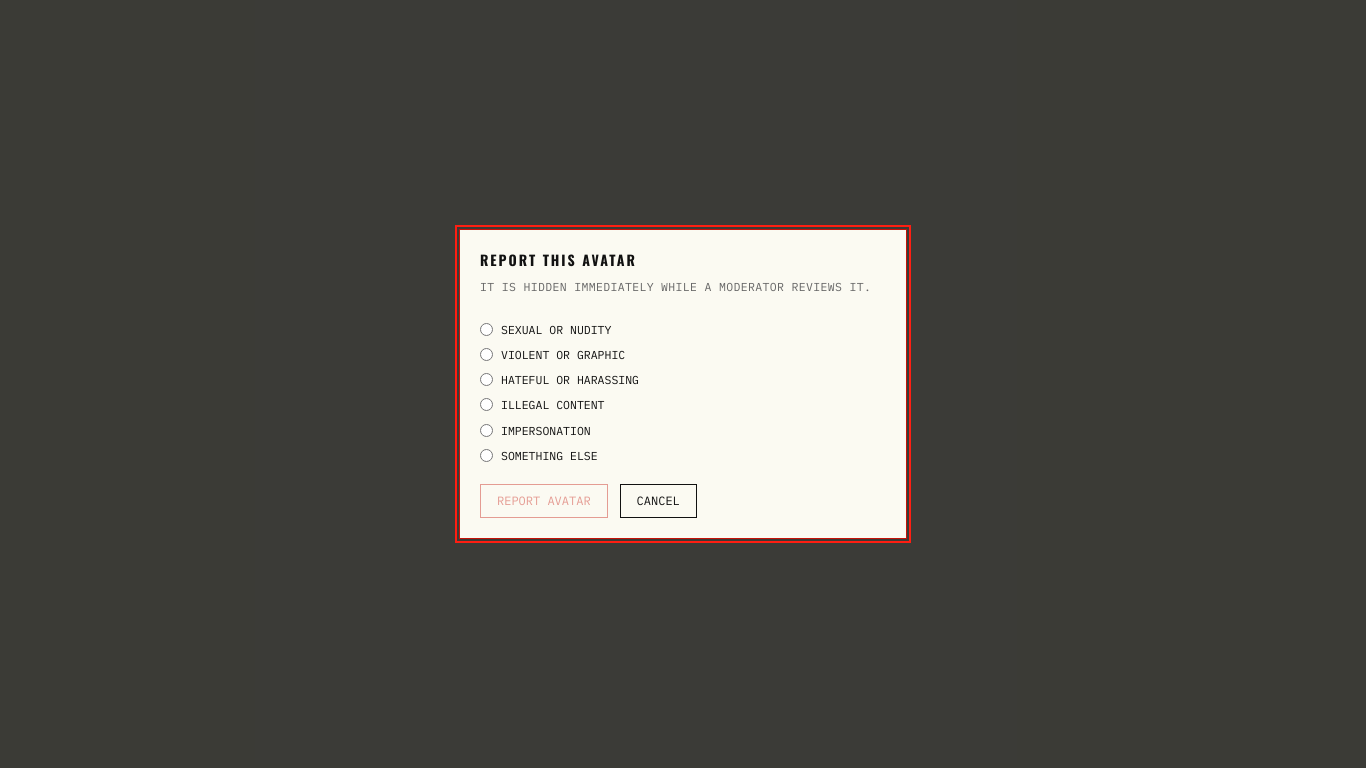
ReportDialog › explains that reporting needs a verified gamertag
Click the radio button labelled "Hateful or harassing".
click(486, 380)  # box [480, 373, 493, 386]
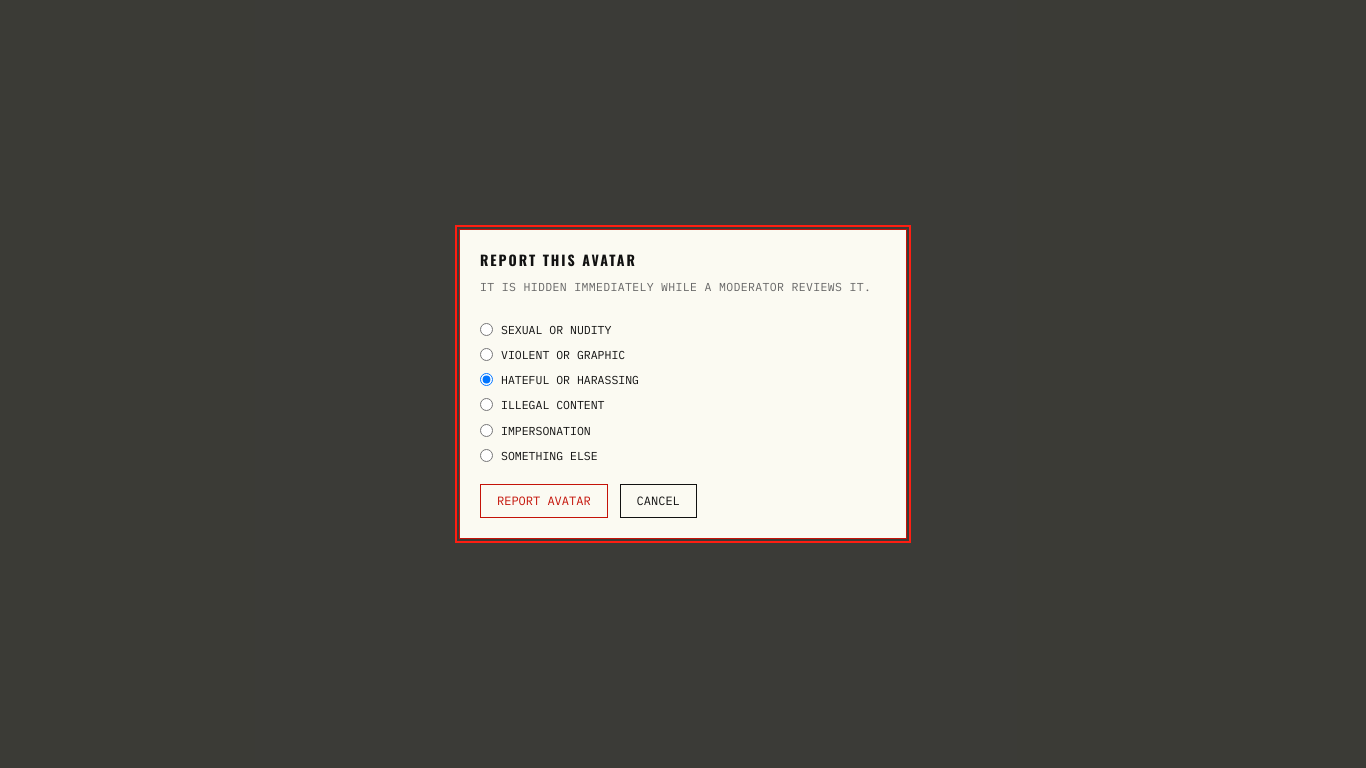
Click the button "Report avatar".
click(544, 501)  # box [480, 484, 608, 518]
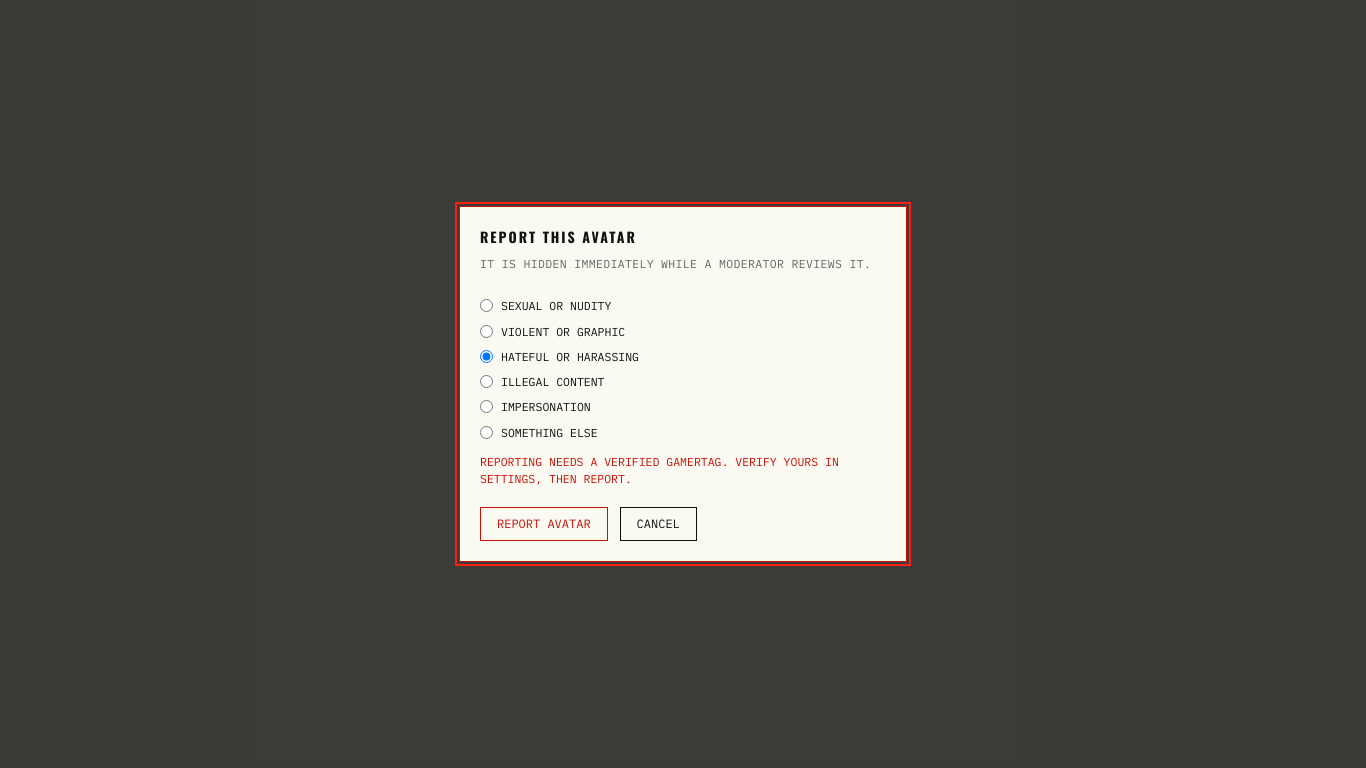
Result: the message shows "verified gamertag" at [480, 454, 839, 486]
